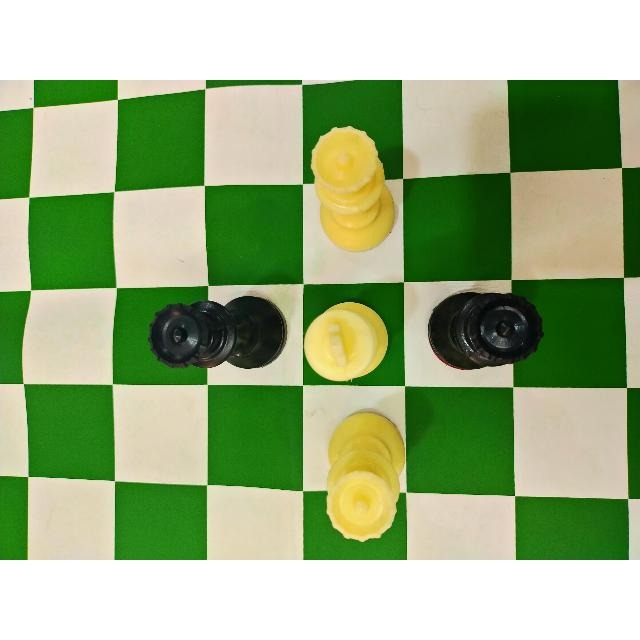black-queen: (146, 293, 290, 371), (427, 291, 545, 371)
white-king: (303, 299, 391, 384)
white-queen: (308, 124, 397, 256), (322, 409, 407, 545)
